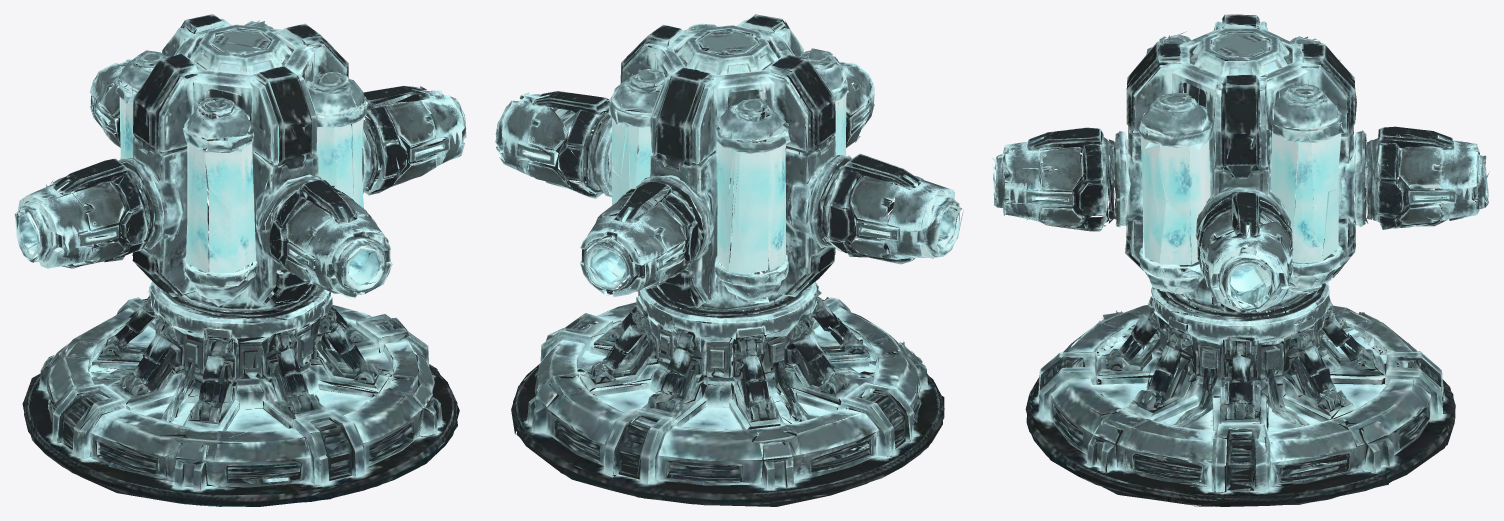
The model's file is tower_cryo_p2_t5.glb.
3 views of the same model, side by side, from view 1: azimuth 30°, elevation 25°; view 2: azimuth 150°, elevation 25°; view 3: azimuth 270°, elevation 25° (orthographic).
Visible parts, largest first — view 1: head, base; view 2: head, base; view 3: head, base.
Boxes of the visible parts, x1,y1,x2,y2 form: head: [14, 14, 466, 308]; base: [22, 252, 459, 506]; head: [495, 14, 963, 307]; base: [511, 248, 944, 506]; head: [992, 14, 1488, 313]; base: [1025, 251, 1455, 506].
Bounding box in the file's own units: 0.9904 × 0.8138 × 0.9747.
1 material, 1 textured.
